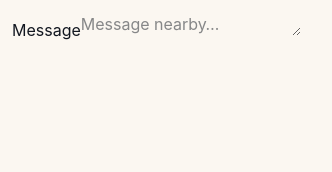
Test case: chat composer › sends with Enter and clears the field
Step 1. Type "hello nearby" into the text box labelled "Message" → (191, 24), box [81,12,301,36]
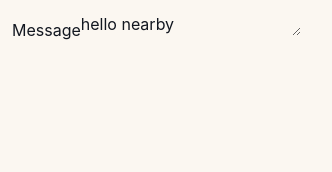
Step 2. Press Enter in the text box labelled "Message", box [81,12,301,36]
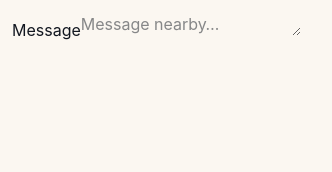
Expected: the text box labelled "Message" is empty, [81,12,301,36]
